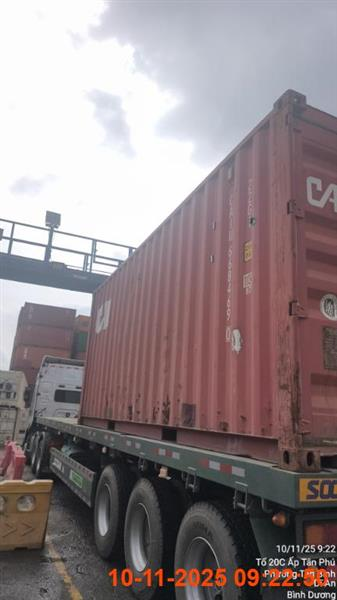hole: (23, 90, 334, 599)
